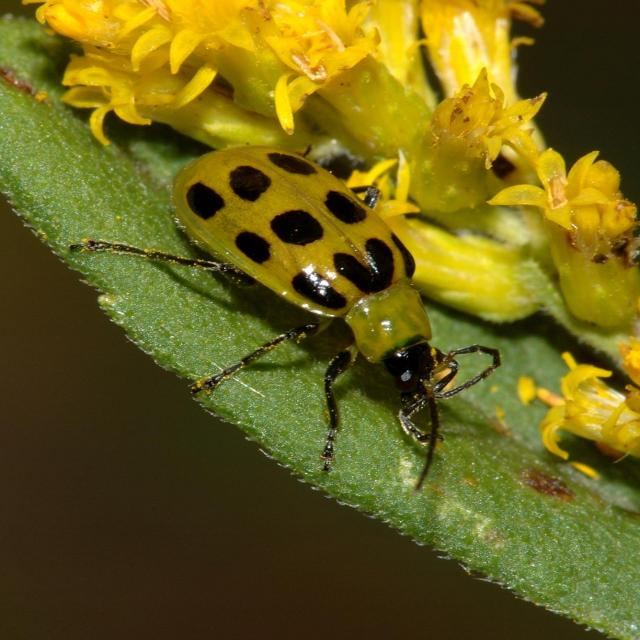cucumber_beetle: (59, 101, 485, 500)
